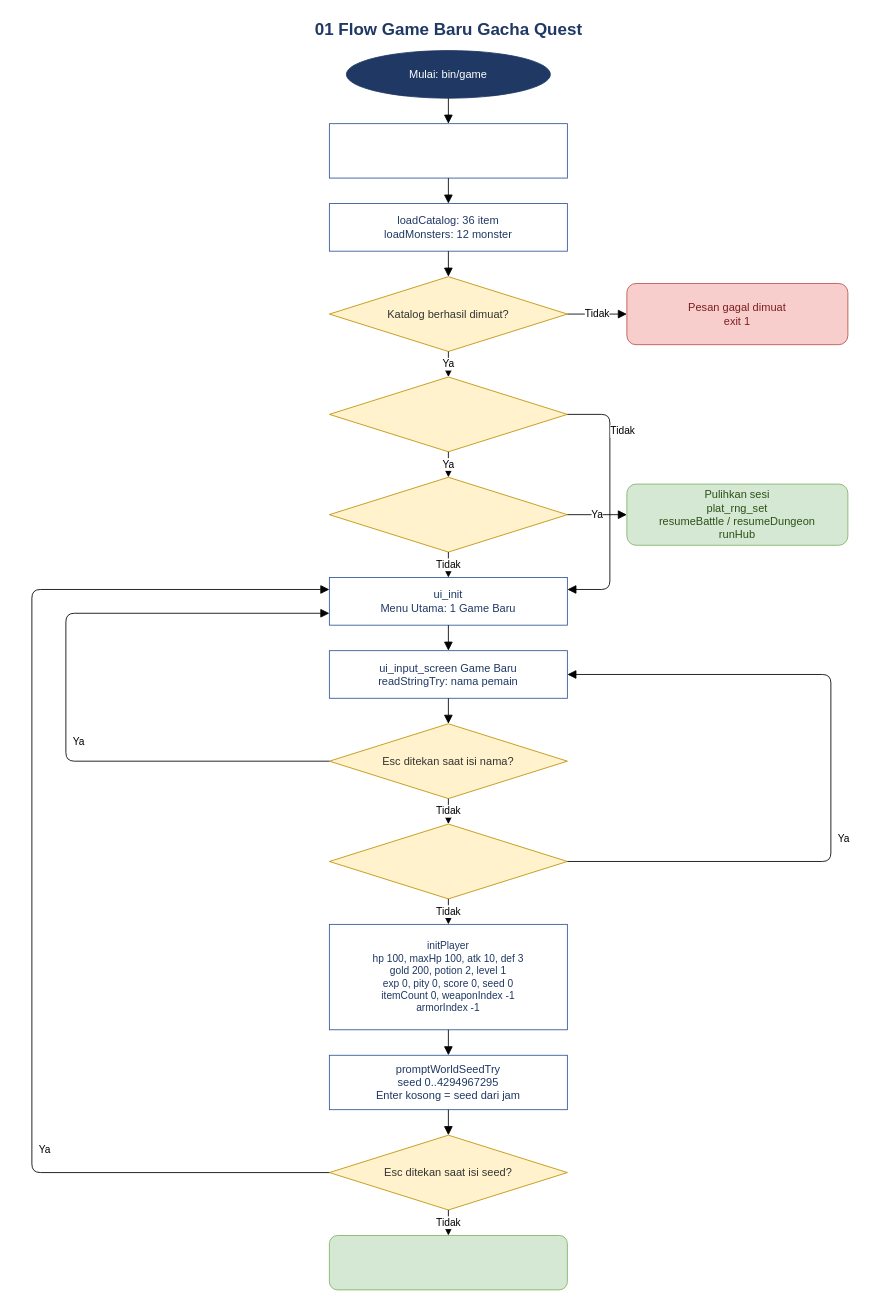
The diagram is 896 pixels wide and 1305 high, and some of its shapes have lost their labels. Each missing label, with the centre of its shape:
"Ada sesi sebelumnya? platform_previous_running dan autosave_load" goes at point (448, 414).
"Nama kosong? maks 29 karakter dipotong" goes at point (448, 861).
"platform_init log_init plat_srand(time)" goes at point (448, 150).
"Pulihkan sesi sebelumnya? y/n" goes at point (448, 514).
"Selamat datang, 200 gold Masuk Hub" goes at point (448, 1262).
